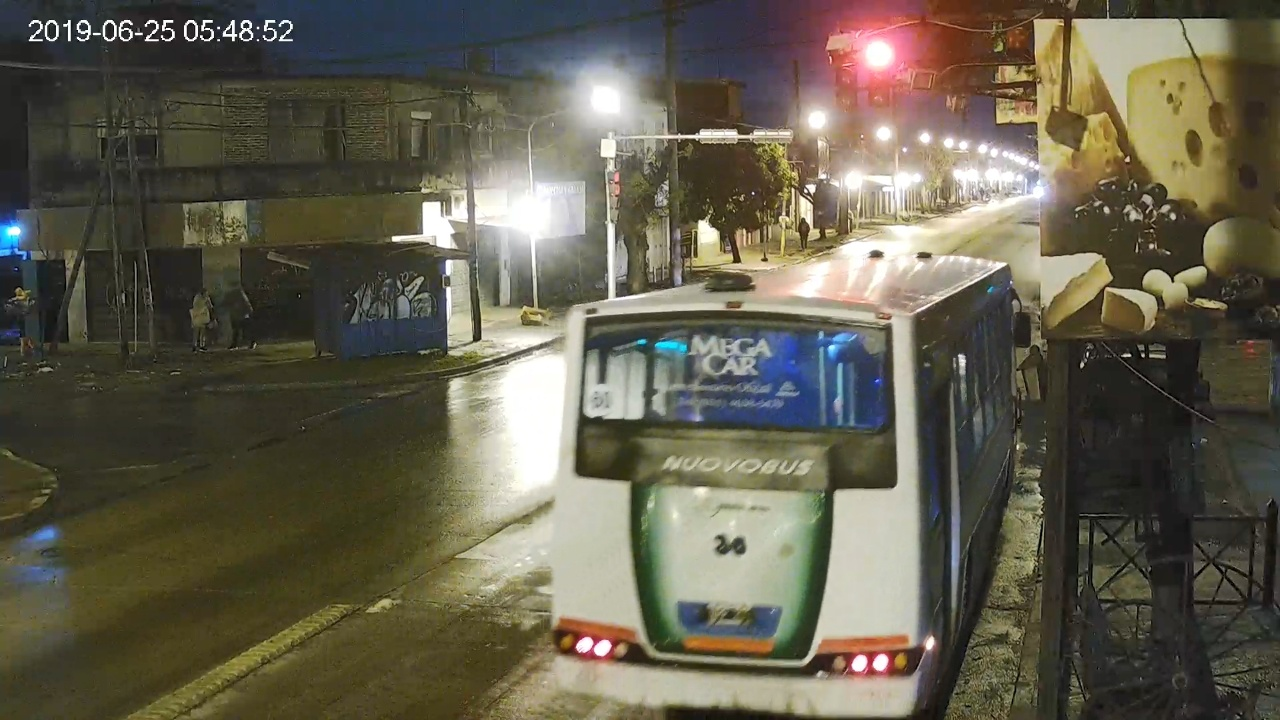bus: (554, 249, 1031, 719)
